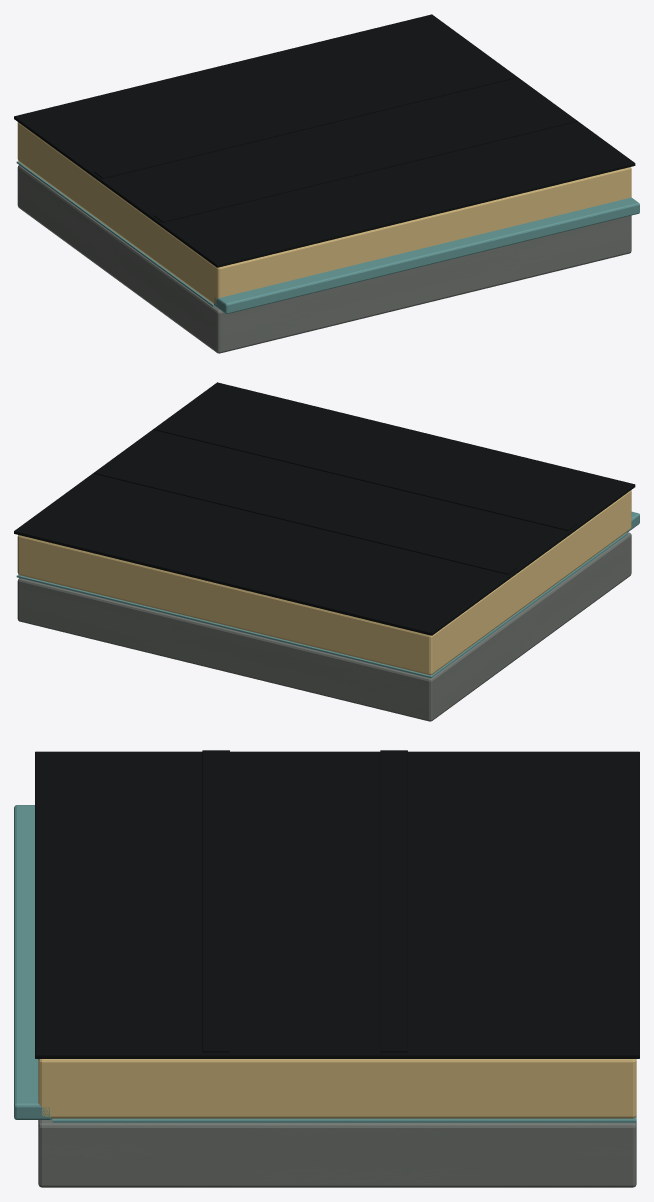
File: modell.glb
The picture shows the model from 3 angles, top to bottom: view 1: azimuth 30°, elevation 25°; view 2: azimuth 150°, elevation 25°; view 3: azimuth 270°, elevation 25°; orthographic projection. The views are drawn at different scales.
Visible parts, largest first — view 1: g01-abdichtung_deckung, g01-untergrund_tragwerk, g01-daemmung_daemmung, g01-naht_deckung, g01-innenanschluss_luftdichtheit, g01-luftdichtheit_luftdichtheit; view 2: g01-abdichtung_deckung, g01-untergrund_tragwerk, g01-daemmung_daemmung, g01-naht_deckung, g01-luftdichtheit_luftdichtheit; view 3: g01-abdichtung_deckung, g01-untergrund_tragwerk, g01-daemmung_daemmung, g01-naht_deckung, g01-innenanschluss_luftdichtheit, g01-luftdichtheit_luftdichtheit.
Part boxes in pixels (x1,y1,x2,y2): g01-abdichtung_deckung: [14, 14, 635, 267]; g01-untergrund_tragwerk: [17, 165, 631, 353]; g01-daemmung_daemmung: [17, 122, 631, 304]; g01-naht_deckung: [93, 70, 577, 222]; g01-innenanschluss_luftdichtheit: [214, 197, 639, 313]; g01-luftdichtheit_luftdichtheit: [16, 161, 214, 306]; g01-abdichtung_deckung: [14, 382, 635, 635]; g01-untergrund_tragwerk: [17, 532, 631, 721]; g01-daemmung_daemmung: [17, 490, 631, 675]; g01-naht_deckung: [93, 422, 577, 574]; g01-luftdichtheit_luftdichtheit: [16, 533, 627, 678]; g01-abdichtung_deckung: [35, 751, 639, 1058]; g01-untergrund_tragwerk: [38, 1119, 636, 1187]; g01-daemmung_daemmung: [38, 1059, 636, 1118]; g01-naht_deckung: [202, 750, 407, 1052]; g01-innenanschluss_luftdichtheit: [14, 805, 51, 1119]; g01-luftdichtheit_luftdichtheit: [52, 1116, 636, 1122].
Size of the model in its own units: 2.22 by 0.471 by 1.93.
4 materials, 1 textured.
